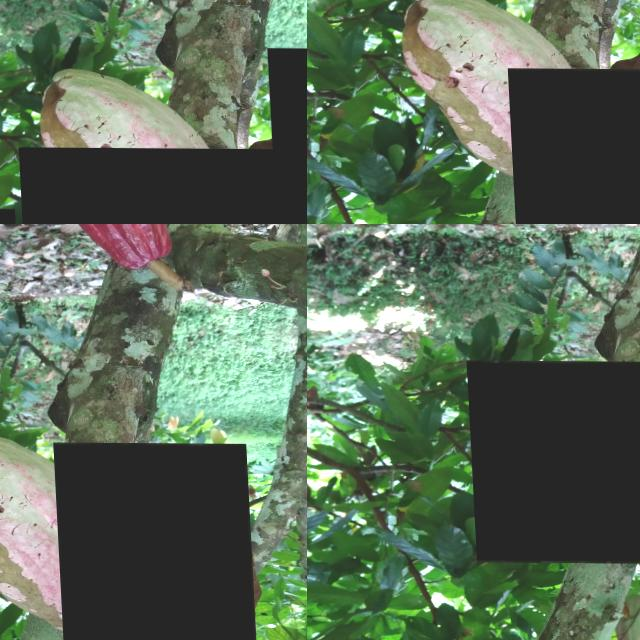Monilia: (15, 147, 307, 224)
Sana: (50, 442, 257, 640), (464, 360, 640, 563), (504, 67, 640, 224)
